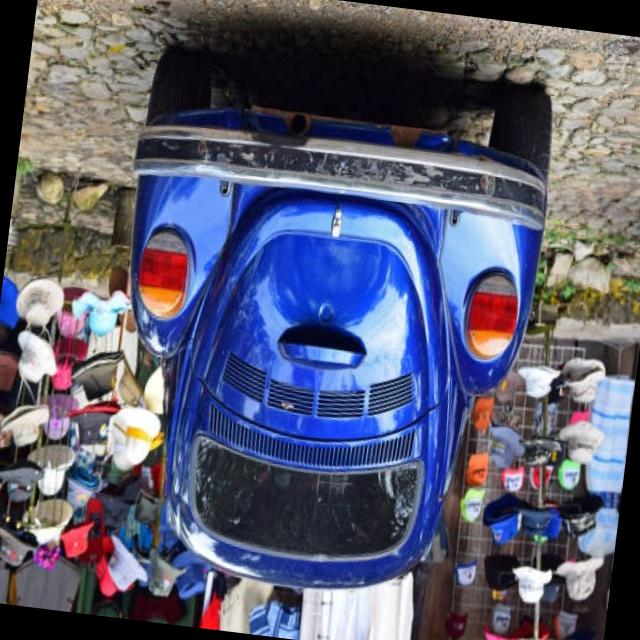car: (95, 49, 568, 596)
